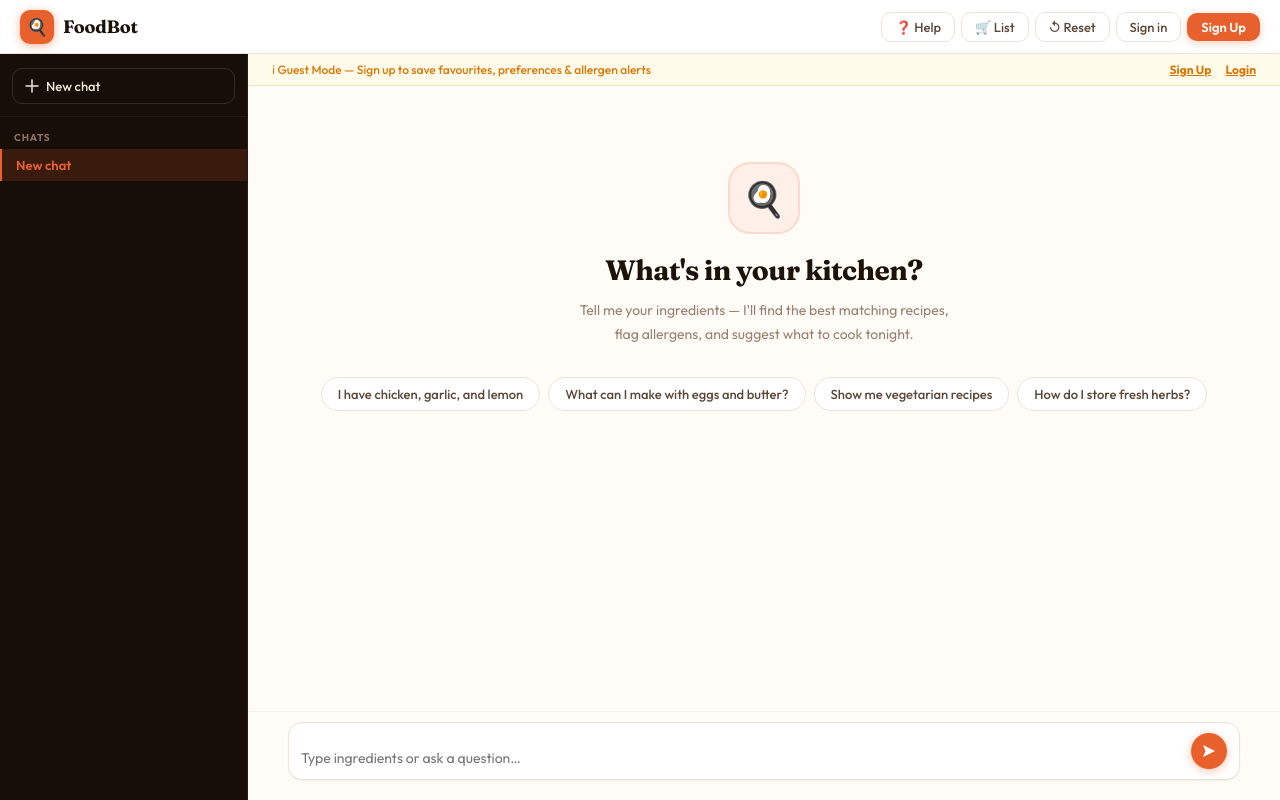
Test: Shopping list navigation › renders empty shopping list page when 🛒 topbar button is clicked
What coordinates should you click on to do the following:
click the button titled "Shopping List"
I would click on:
 (995, 26)
Its box is [961,12,1028,42].
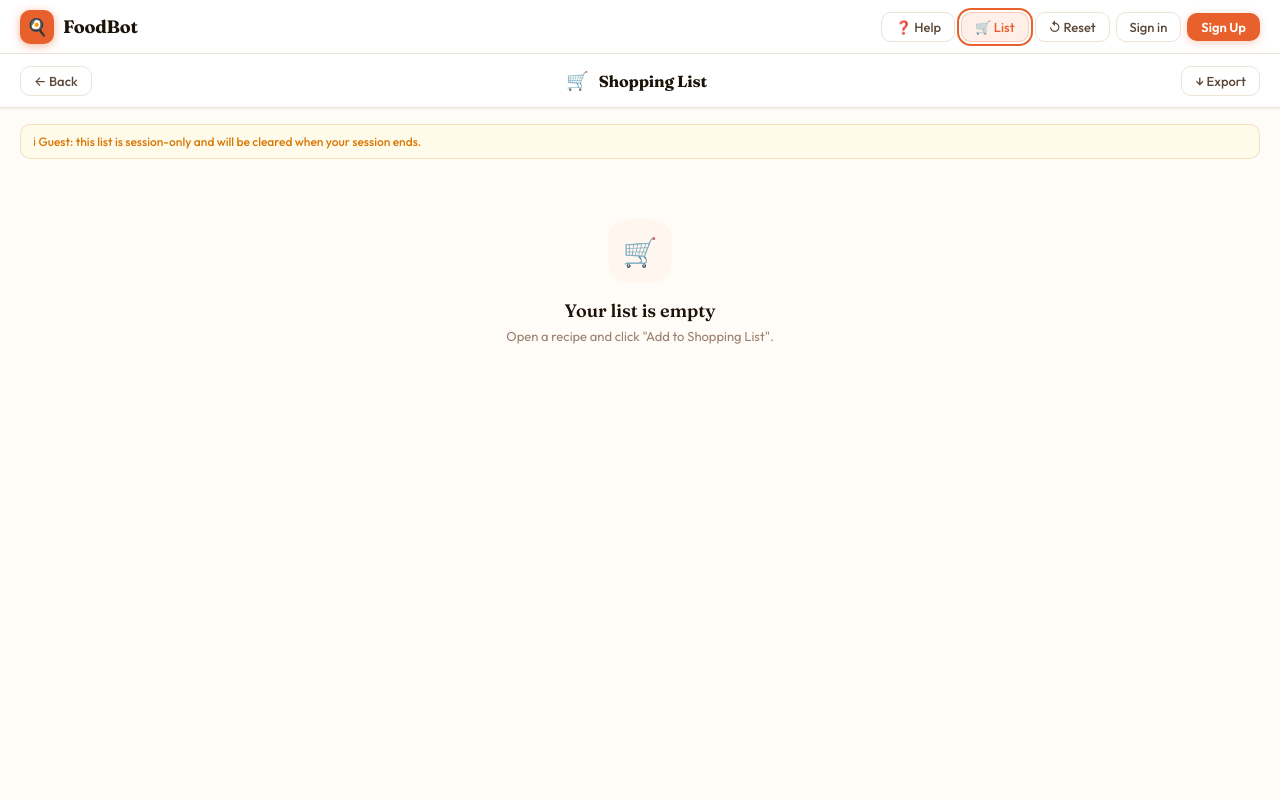
Expected: the text "Shopping List" is shown, [599,70,707,90]
Expected: the text "Your list is empty" is shown, [564,299,715,322]
